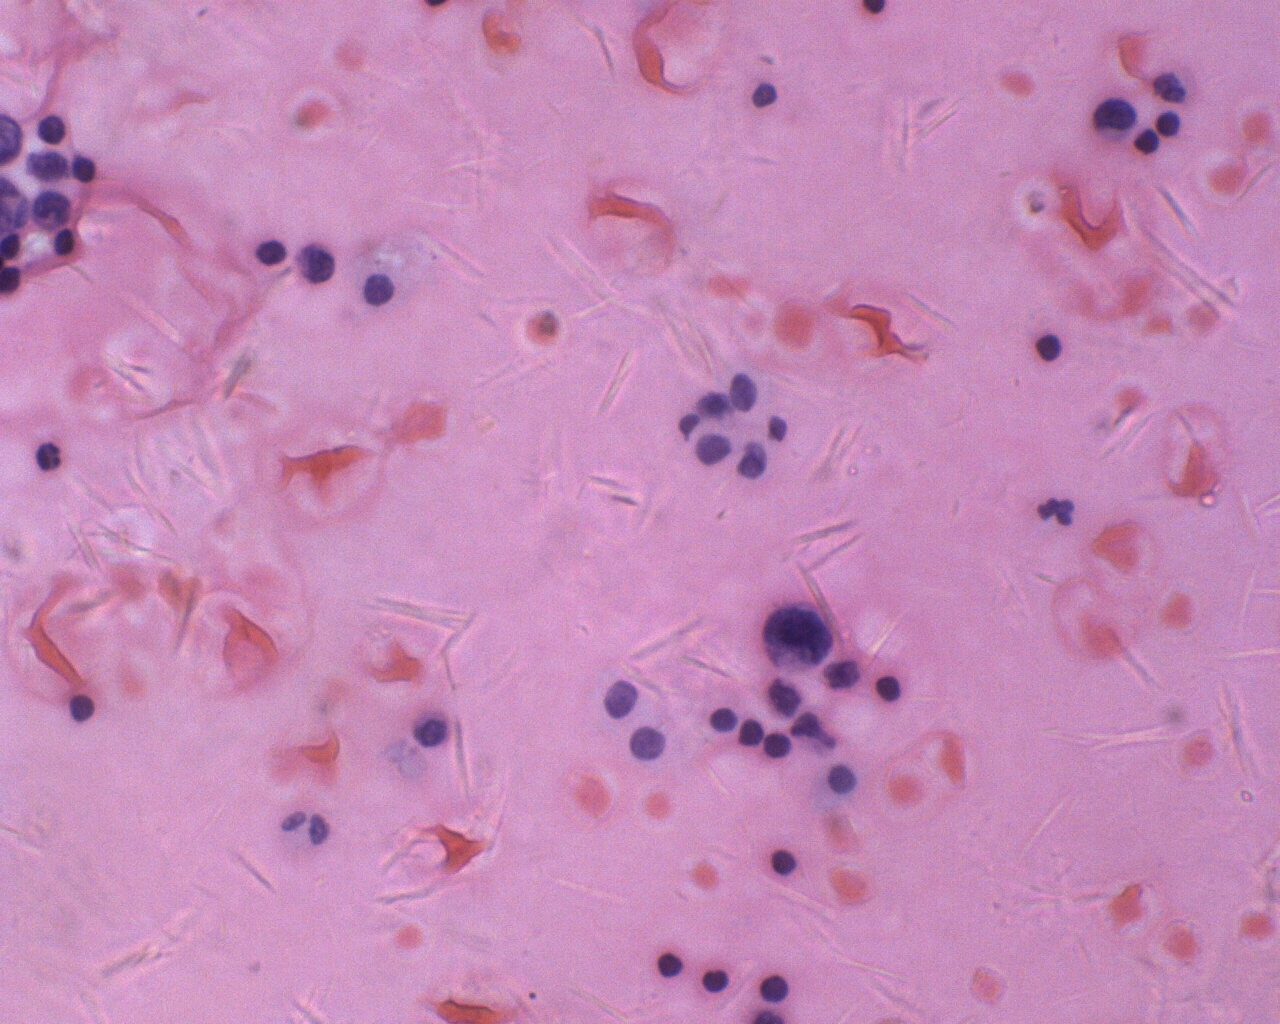ab: (757, 600, 834, 677)
lymph: (1087, 94, 1140, 142), (251, 231, 296, 275), (34, 109, 79, 149), (1034, 323, 1070, 366), (755, 970, 794, 1007), (872, 665, 907, 705), (654, 942, 686, 985), (768, 844, 804, 880), (1155, 107, 1188, 143), (702, 705, 740, 738), (65, 689, 97, 725)
